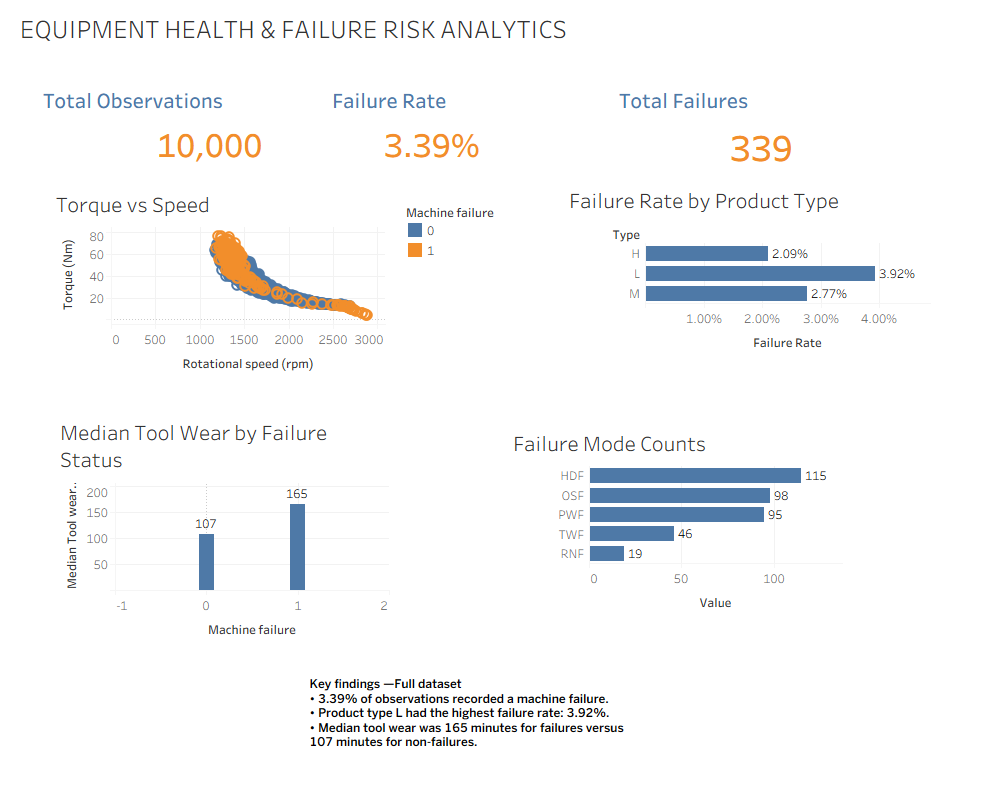

The dashboard page shown, as its layout file describes it:
{"tool":"tableau","page":{"name":" EQUIPMENT HEALTH & FAILURE RISK ANALYTICS","canvas":[1000,800],"ordinal":0},"visuals":[{"type":"title","box":[8,8,984,42]},{"type":"worksheet","title":"KPI - Total Observations","mark":"Automatic","box":[39,80,228,94]},{"type":"worksheet","title":"KPI - Failure Rate","mark":"Automatic","box":[328,80,156,96]},{"type":"worksheet","title":"KPI - Total Failures","mark":"Automatic","box":[615,80,182,94]},{"type":"worksheet","title":"Failure Rate by Product Type","mark":"Automatic","rows":["Type"],"cols":["Calculation_960674138960744448"],"box":[565,180,365,195]},{"type":"worksheet","title":"Torque vs Speed","mark":"Automatic","rows":["Torque (Nm)"],"cols":["Rotational speed (rpm)"],"box":[52,184,333,195]},{"type":"legend","title":"Torque vs Speed","param":"[federated.1mh7lts0nnny9n117clet1cmw6sd].[sum:Machine failure:ok]","box":[405,202,140,58]},{"type":"worksheet","title":"Median Tool Wear by Failure Status","mark":"Bar","rows":["Tool wear (min)"],"cols":["Machine failure"],"box":[56,412,333,233]},{"type":"worksheet","title":"Failure Mode Counts","mark":"Bar","box":[509,423,333,195]},{"type":"text","box":[307,677,333,75]}]}

Visuals, with their boxes in screenshot pixels (x1, y1, x2, y2), scaled from the page's 1000x800 canvas onto the 1000x800 screenshot:
title: (8, 8, 992, 50)
"KPI - Total Observations" worksheet: (39, 80, 267, 174)
"KPI - Failure Rate" worksheet: (328, 80, 484, 176)
"KPI - Total Failures" worksheet: (615, 80, 797, 174)
"Failure Rate by Product Type" worksheet: (565, 180, 930, 375)
"Torque vs Speed" worksheet: (52, 184, 385, 379)
"Torque vs Speed" legend: (405, 202, 545, 260)
"Median Tool Wear by Failure Status" worksheet (Bar marks): (56, 412, 389, 645)
"Failure Mode Counts" worksheet (Bar marks): (509, 423, 842, 618)
text: (307, 677, 640, 752)
